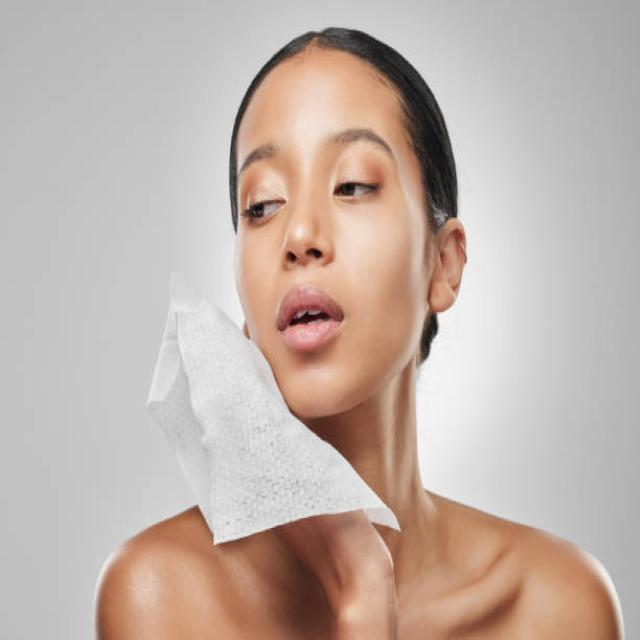Dry-Skin: (282, 92, 363, 186), (331, 234, 408, 325), (289, 369, 331, 417), (244, 275, 276, 332)
